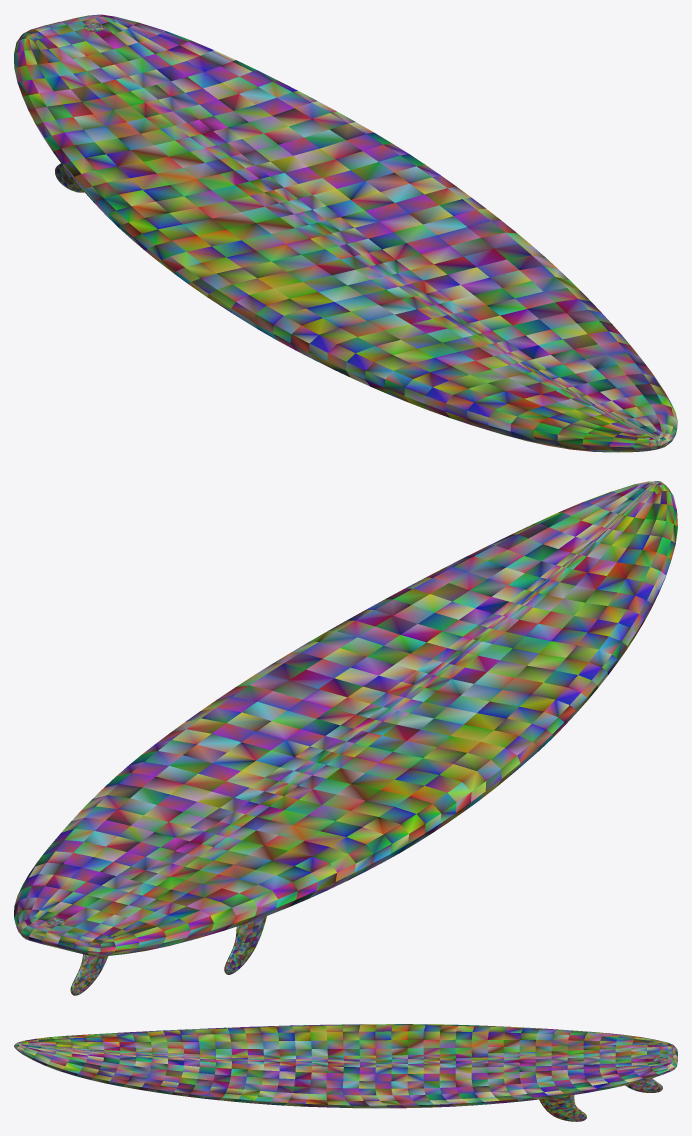
3 renders of one model, top to bottom at view 1: azimuth 30°, elevation 25°; view 2: azimuth 150°, elevation 25°; view 3: azimuth 270°, elevation 25°, orthographic. The views are drawn at different scales.
Parts seen in each view (by area): view 1: Surfboard_SurfboardShader_0; view 2: Surfboard_SurfboardShader_0; view 3: Surfboard_SurfboardShader_0.
Part boxes in pixels (x1,y1,x2,y2): Surfboard_SurfboardShader_0: (14, 14, 677, 452); Surfboard_SurfboardShader_0: (14, 481, 677, 995); Surfboard_SurfboardShader_0: (14, 1024, 677, 1121).
Bounding box in the file's own units: 63.89 × 20.41 × 227.
